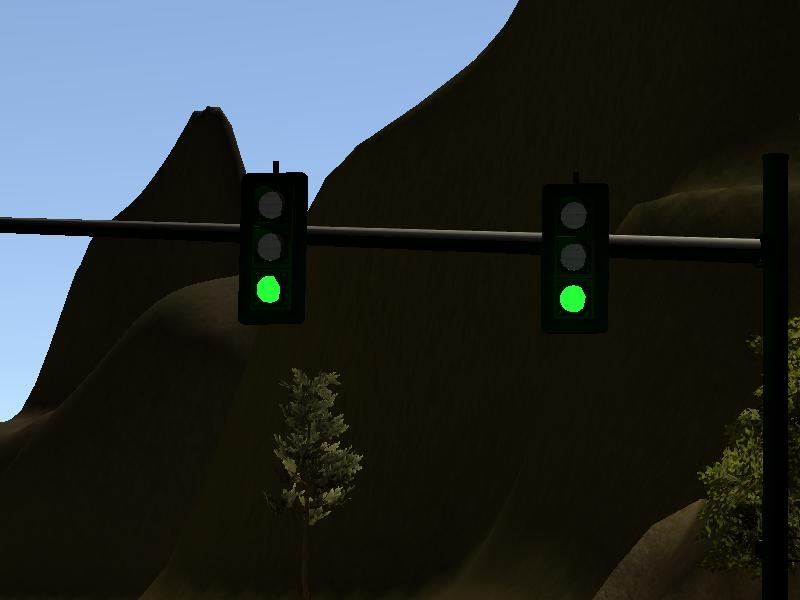GREEN: (231, 168, 314, 318), (536, 181, 615, 337)
